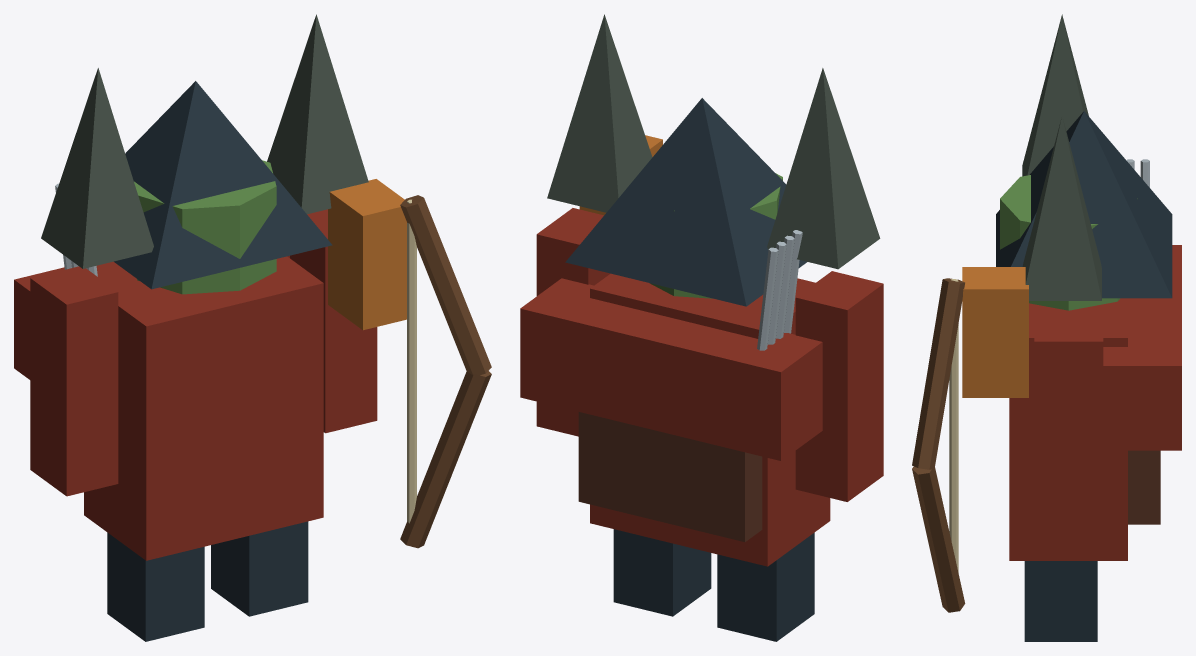
File: ranged.obj
The picture shows the model from 3 angles, left to right: view 1: azimuth 30°, elevation 25°; view 2: azimuth 150°, elevation 25°; view 3: azimuth 270°, elevation 25°; orthographic projection. The views are drawn at different scales.
Parts seen in each view (by area): view 1: ranged; view 2: ranged; view 3: ranged.
Part boxes in pixels (box(x1,y1,x2,y2)): ranged: box(14, 14, 491, 641); ranged: box(520, 14, 883, 641); ranged: box(912, 14, 1181, 641).
Size of the model in its own units: 1.2 by 1.79 by 0.811.
